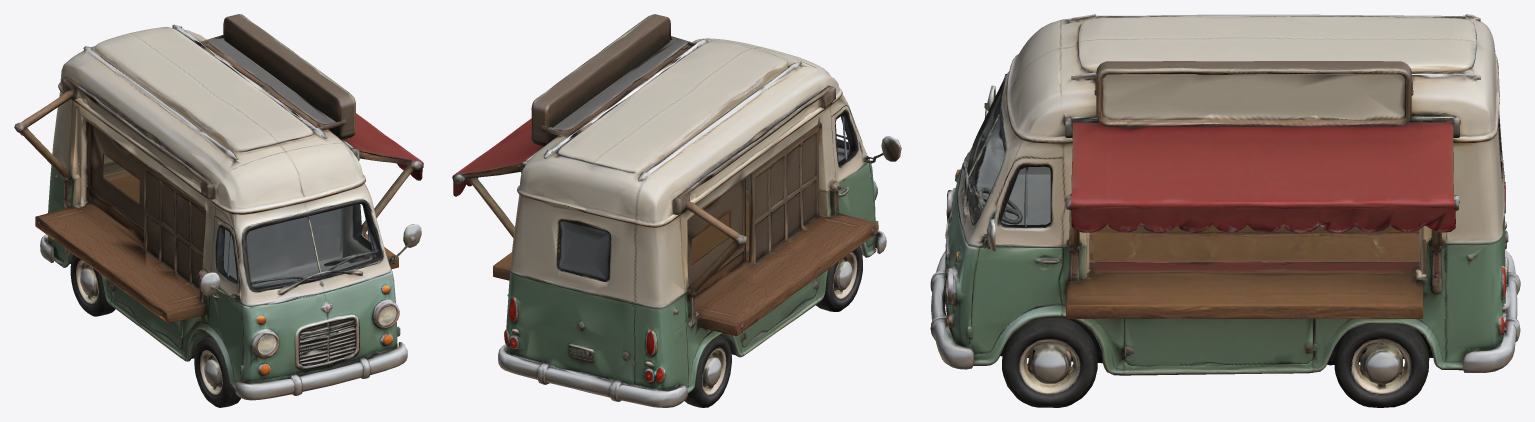
The model's file is level-1-web.glb.
The picture shows the model from 3 angles, left to right: view 1: azimuth 30°, elevation 25°; view 2: azimuth 150°, elevation 25°; view 3: azimuth 270°, elevation 25°; orthographic projection. The views are drawn at different scales.
Visible parts, largest first — view 1: tripo_node_5dda1828-d0d5-4a59-a8a1-c40606a564f0; view 2: tripo_node_5dda1828-d0d5-4a59-a8a1-c40606a564f0; view 3: tripo_node_5dda1828-d0d5-4a59-a8a1-c40606a564f0.
Part boxes in pixels (<box>): tripo_node_5dda1828-d0d5-4a59-a8a1-c40606a564f0: <box>14,14,423,407</box>; tripo_node_5dda1828-d0d5-4a59-a8a1-c40606a564f0: <box>452,14,901,407</box>; tripo_node_5dda1828-d0d5-4a59-a8a1-c40606a564f0: <box>930,14,1520,407</box>.
Size of the model in its own units: 0.6954 by 0.6258 by 0.9773.
Materials: 1 (1 with a texture image).
